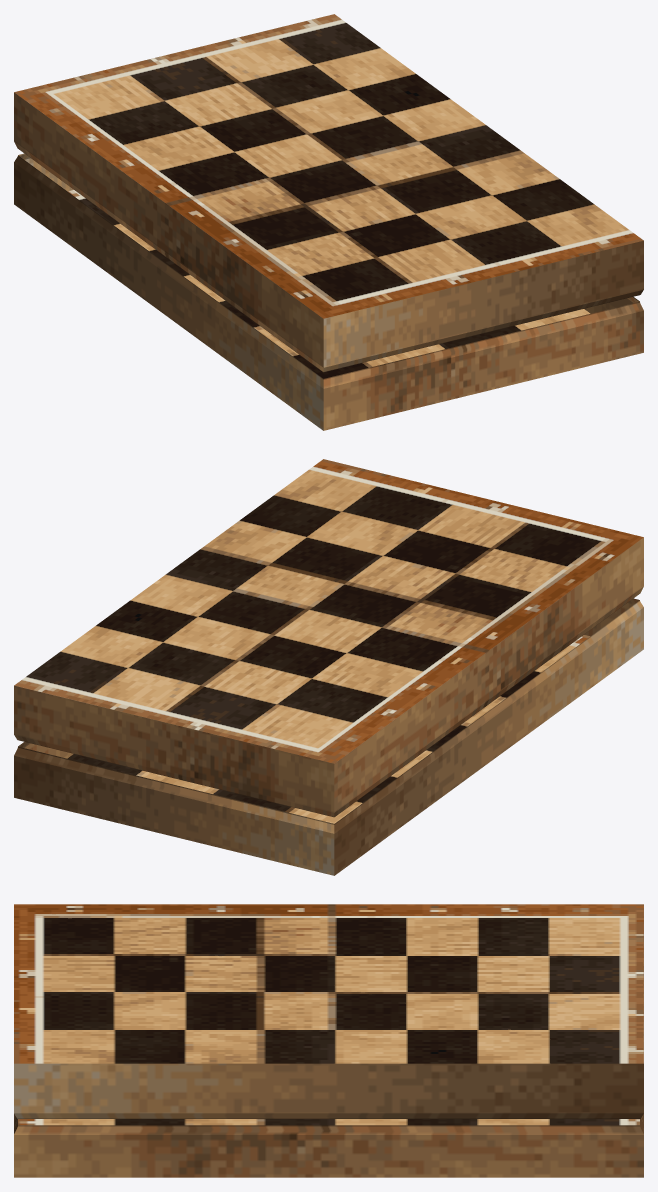
The model's file is Chess.fbx.
3 renders of one model, top to bottom at view 1: azimuth 30°, elevation 25°; view 2: azimuth 150°, elevation 25°; view 3: azimuth 270°, elevation 25°, orthographic.
Parts seen in each view (by area): view 1: Chess; view 2: Chess; view 3: Chess.
Boxes of the visible parts, x1,y1,x2,y2 form: Chess: (14,14,643,430); Chess: (14,459,643,875); Chess: (14,904,643,1177).
Size of the model in its own units: 33.04 by 11.05 by 55.27.
1 material, 1 textured.
